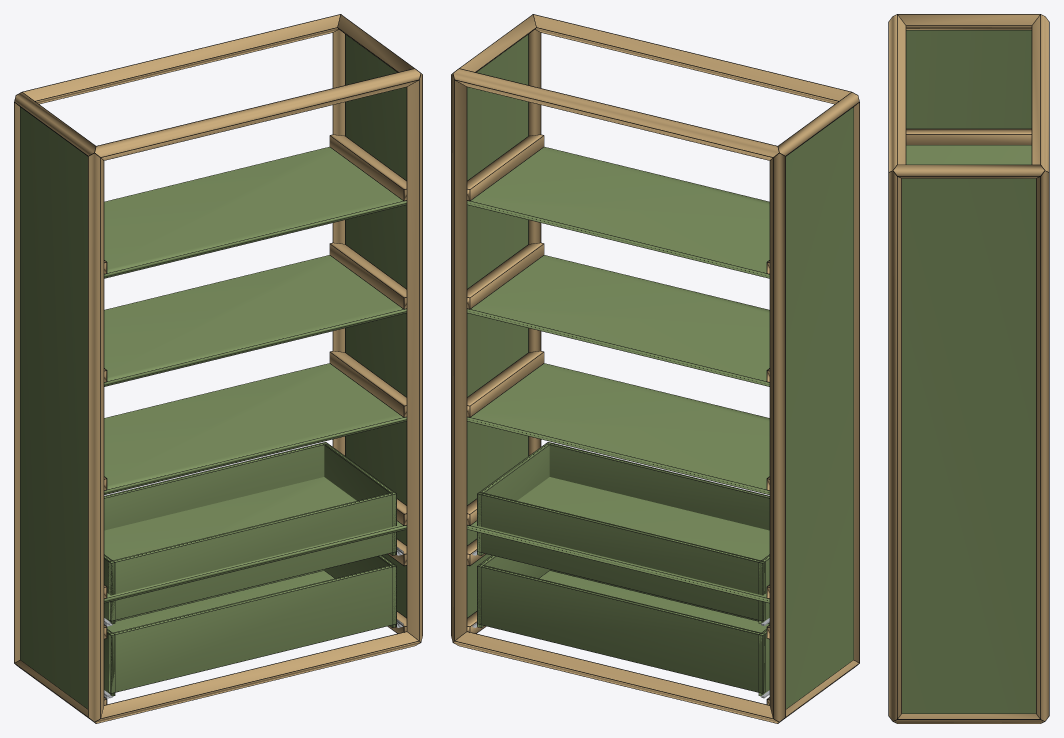
File: 009-dressing.glb
3 renders of one model, left to right at view 1: azimuth 30°, elevation 25°; view 2: azimuth 150°, elevation 25°; view 3: azimuth 270°, elevation 25°, orthographic. The views are drawn at different scales.
Visible parts, largest first — view 1: panneau-joue1, tablette-plate-mod-1, tablette-plate-mod-2, tablette-plate-mod-3, drawer-box-fond-mod-4, panneau-joue2, drawer-box-fond-mod-5, tablette-plate-mod-0, arete-Z0, arete-Z1, drawer-box-arriere-mod-5, arete-X2 (+24 smaller); view 2: panneau-joue1, tablette-plate-mod-1, tablette-plate-mod-2, tablette-plate-mod-3, drawer-box-arriere-mod-4, panneau-joue2, drawer-box-arriere-mod-5, tablette-plate-mod-0, arete-Z2, arete-Z3, drawer-box-fond-mod-5, arete-X3 (+24 smaller); view 3: panneau-joue2, panneau-joue1, arete-Z1, arete-Z3, arete-X2, arete-X3, tablette-plate-mod-3, arete-Y2, arete-Y3, tablette-traverse-left-mod-3, panneau-wire-joue2, arete-Y1 (+8 smaller).
Boxes of the visible parts, bbox=[...] form: panneau-joue1: bbox=[20, 107, 87, 708]; tablette-plate-mod-1: bbox=[104, 363, 406, 494]; tablette-plate-mod-2: bbox=[104, 255, 406, 386]; tablette-plate-mod-3: bbox=[104, 147, 406, 277]; drawer-box-fond-mod-4: bbox=[108, 565, 396, 692]; panneau-joue2: bbox=[345, 35, 406, 617]; drawer-box-fond-mod-5: bbox=[108, 492, 396, 620]; tablette-plate-mod-0: bbox=[104, 477, 406, 602]; arete-Z0: bbox=[88, 153, 103, 721]; arete-Z1: bbox=[407, 74, 422, 641]; drawer-box-arriere-mod-5: bbox=[104, 442, 326, 530]; arete-X2: bbox=[95, 69, 420, 160]; panneau-joue1: bbox=[786, 107, 853, 708]; tablette-plate-mod-1: bbox=[467, 363, 769, 494]; tablette-plate-mod-2: bbox=[467, 255, 769, 386]; tablette-plate-mod-3: bbox=[467, 147, 769, 277]; drawer-box-arriere-mod-4: bbox=[477, 565, 765, 692]; panneau-joue2: bbox=[467, 35, 528, 617]; drawer-box-arriere-mod-5: bbox=[477, 492, 765, 620]; tablette-plate-mod-0: bbox=[467, 477, 769, 602]; arete-Z2: bbox=[770, 153, 785, 721]; arete-Z3: bbox=[451, 74, 466, 641]; drawer-box-fond-mod-5: bbox=[547, 442, 769, 530]; arete-X3: bbox=[453, 69, 778, 160]; panneau-joue2: bbox=[902, 178, 1035, 713]; panneau-joue1: bbox=[906, 30, 1031, 128]; arete-Z1: bbox=[889, 171, 901, 720]; arete-Z3: bbox=[1036, 171, 1048, 720]; arete-X2: bbox=[889, 15, 905, 171]; arete-X3: bbox=[1032, 15, 1048, 171]; tablette-plate-mod-3: bbox=[906, 145, 1031, 164]; arete-Y2: bbox=[898, 14, 1039, 29]; arete-Y3: bbox=[893, 165, 1044, 178]; tablette-traverse-left-mod-3: bbox=[906, 129, 1031, 144]; panneau-wire-joue2: bbox=[901, 178, 1036, 713]; arete-Y1: bbox=[894, 714, 1043, 723].
Size of the model in its own units: 1.23 by 2.03 by 0.5309.
